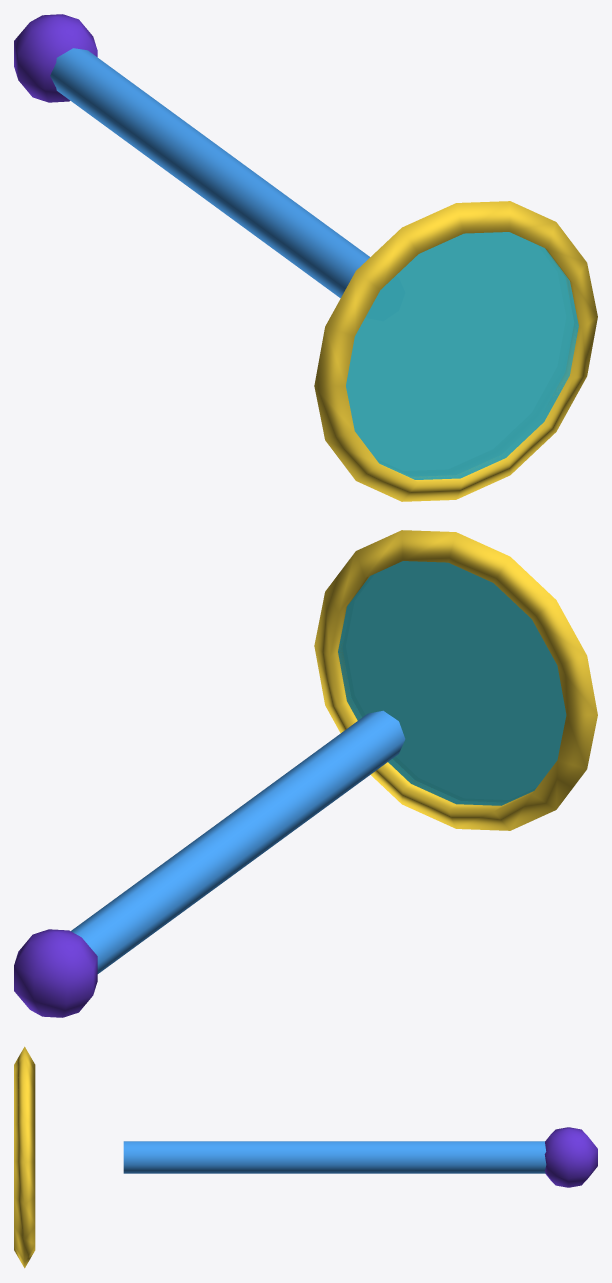
File: BubbleWand.fbx
3 views of the same model, one above another, from view 1: azimuth 30°, elevation 25°; view 2: azimuth 150°, elevation 25°; view 3: azimuth 270°, elevation 25° (orthographic). The views are drawn at different scales.
Parts seen in each view (by area): view 1: BubbleWand; view 2: BubbleWand; view 3: BubbleWand.
Boxes of the visible parts, x1,y1,x2,y2 form: BubbleWand: [14, 14, 597, 501]; BubbleWand: [14, 530, 597, 1017]; BubbleWand: [14, 1046, 597, 1268].
Bounding box in the file's own units: 0.18 × 0.18 × 0.4724.
